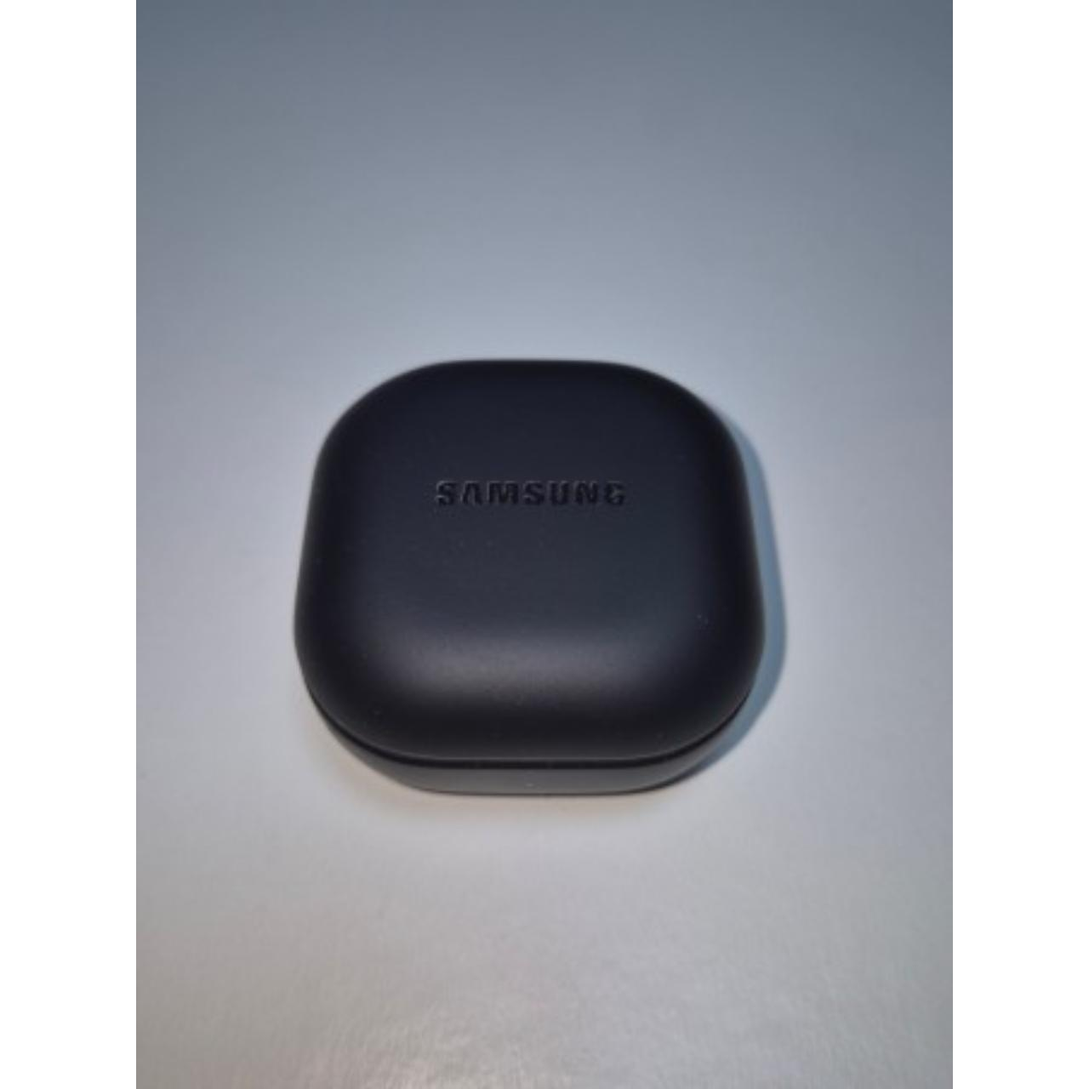Buds: (285, 351, 781, 805)
